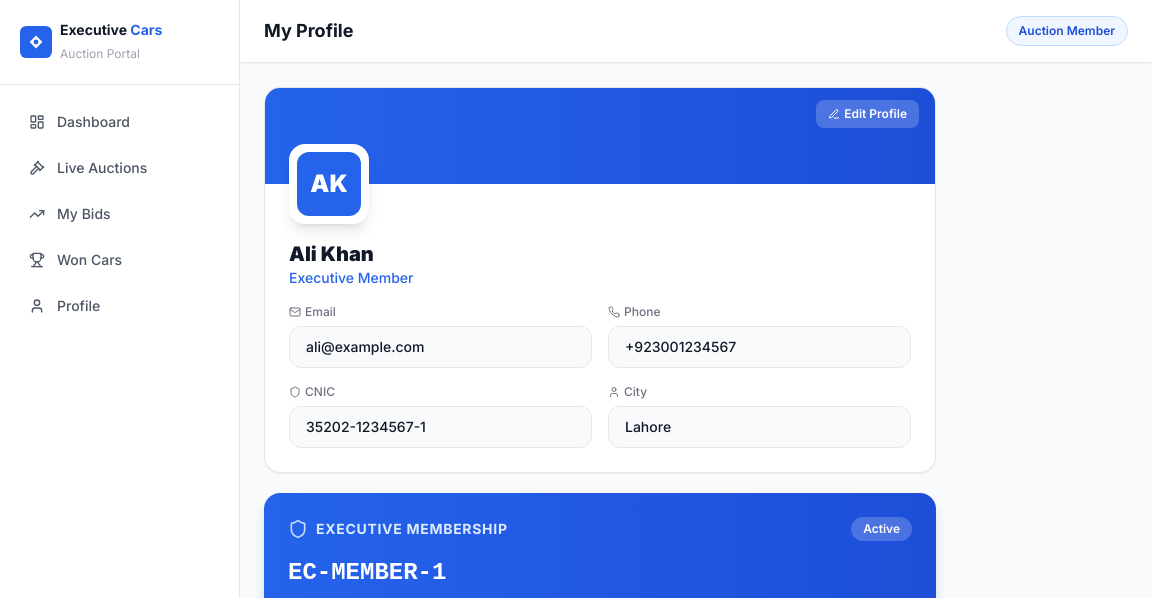
Test case: AuctionProfilePage › keeps saved edits and uses them as the next cancel baseline
The width and height of the screenshot is (1152, 598).
expect the text "Lahore" is shown: met, box top-left (608, 406), bottom-right (911, 448)
Click the button "Edit Profile".
click(868, 114)  # box top-left (816, 100), bottom-right (919, 128)
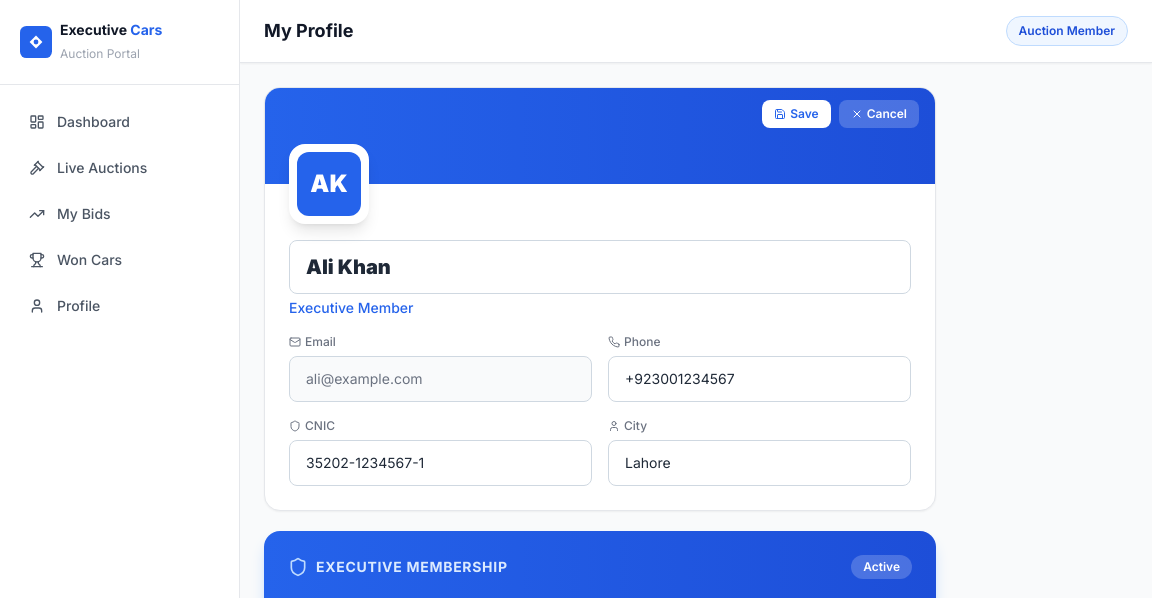
Replace the text in the field labelled "City" with "Karachi" at (760, 463), box top-left (608, 440), bottom-right (911, 486)
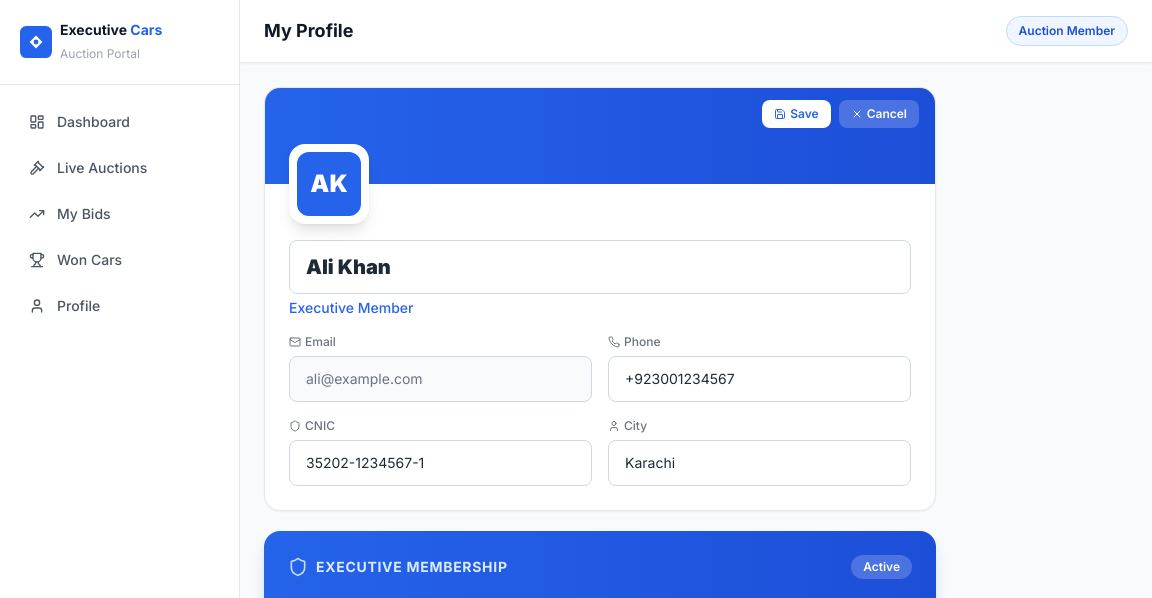
Click the button "Save".
click(796, 114)  # box top-left (762, 100), bottom-right (831, 128)
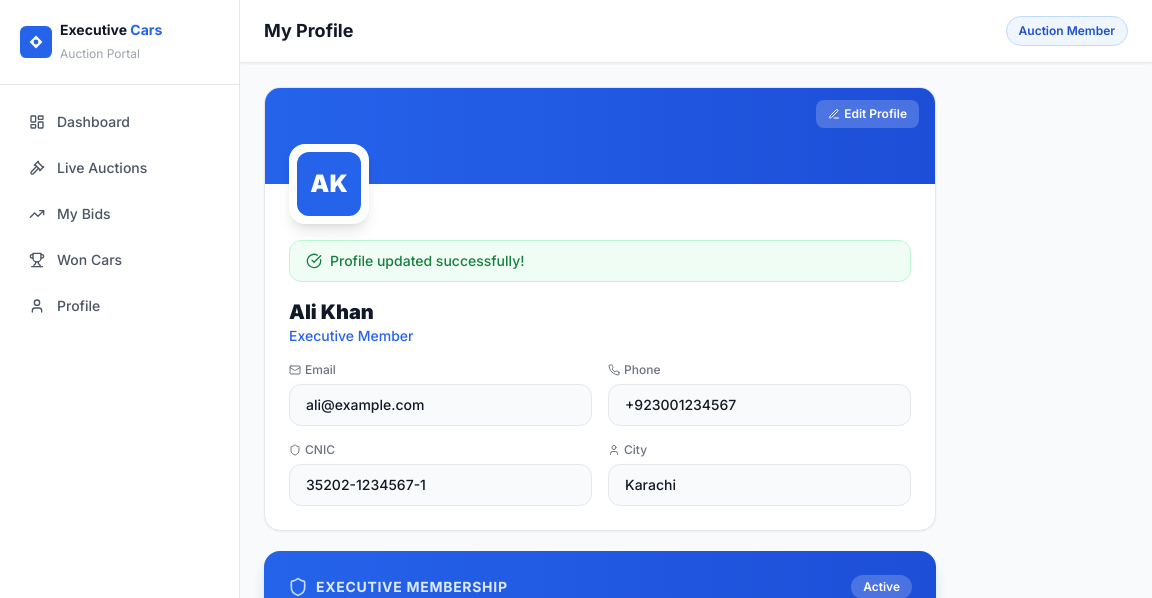
expect the text "Karachi" is shown: met, box top-left (608, 464), bottom-right (911, 506)
Click the button "Edit Profile".
click(868, 114)  # box top-left (816, 100), bottom-right (919, 128)
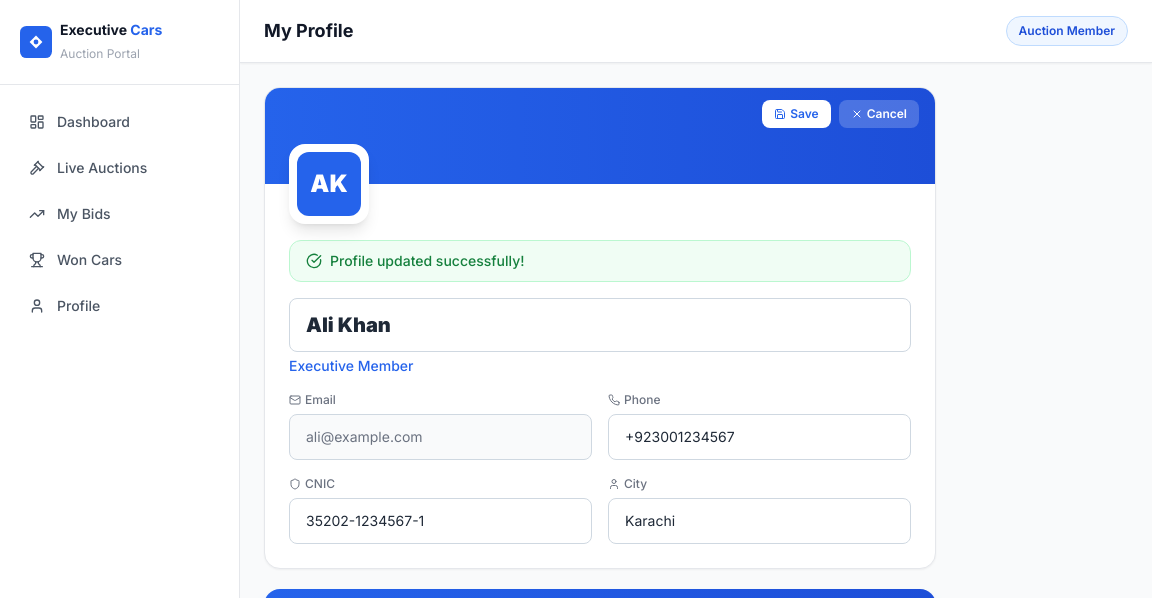
Replace the text in the field labelled "City" with "Multan" at (760, 521), box top-left (608, 498), bottom-right (911, 544)
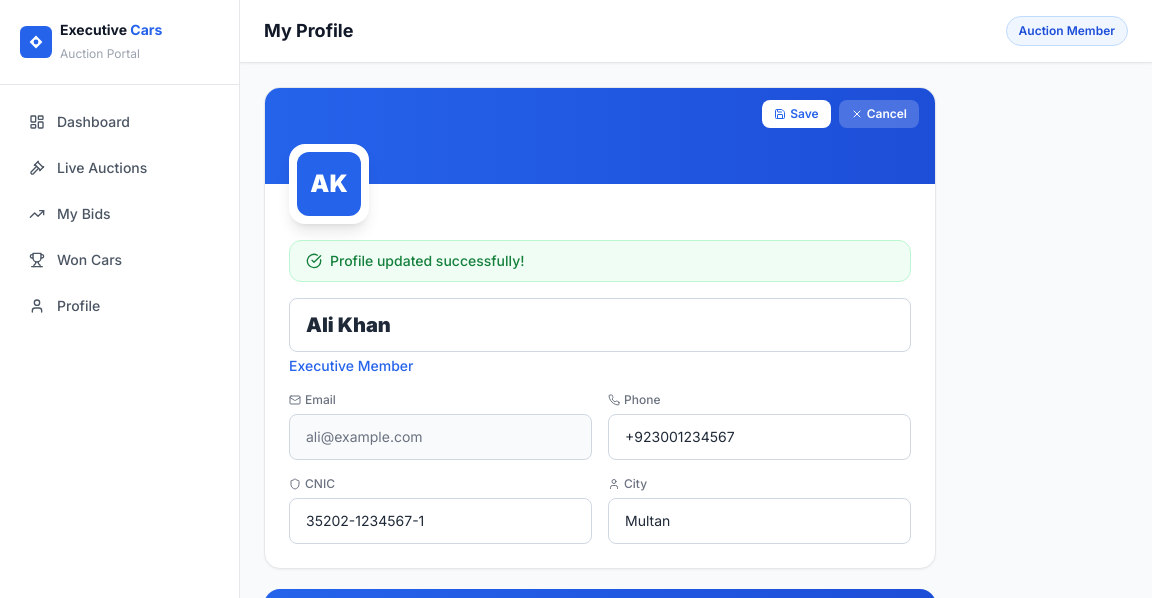
Click the button "Cancel".
click(879, 114)  # box top-left (839, 100), bottom-right (919, 128)
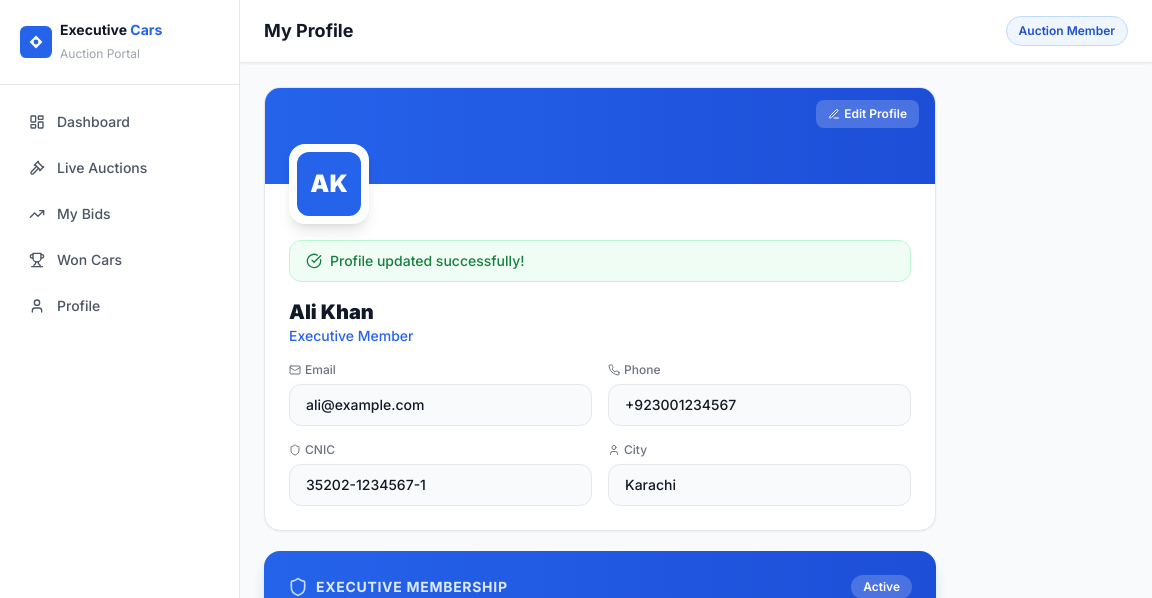
expect the text "Karachi" is shown: met, box top-left (608, 464), bottom-right (911, 506)
